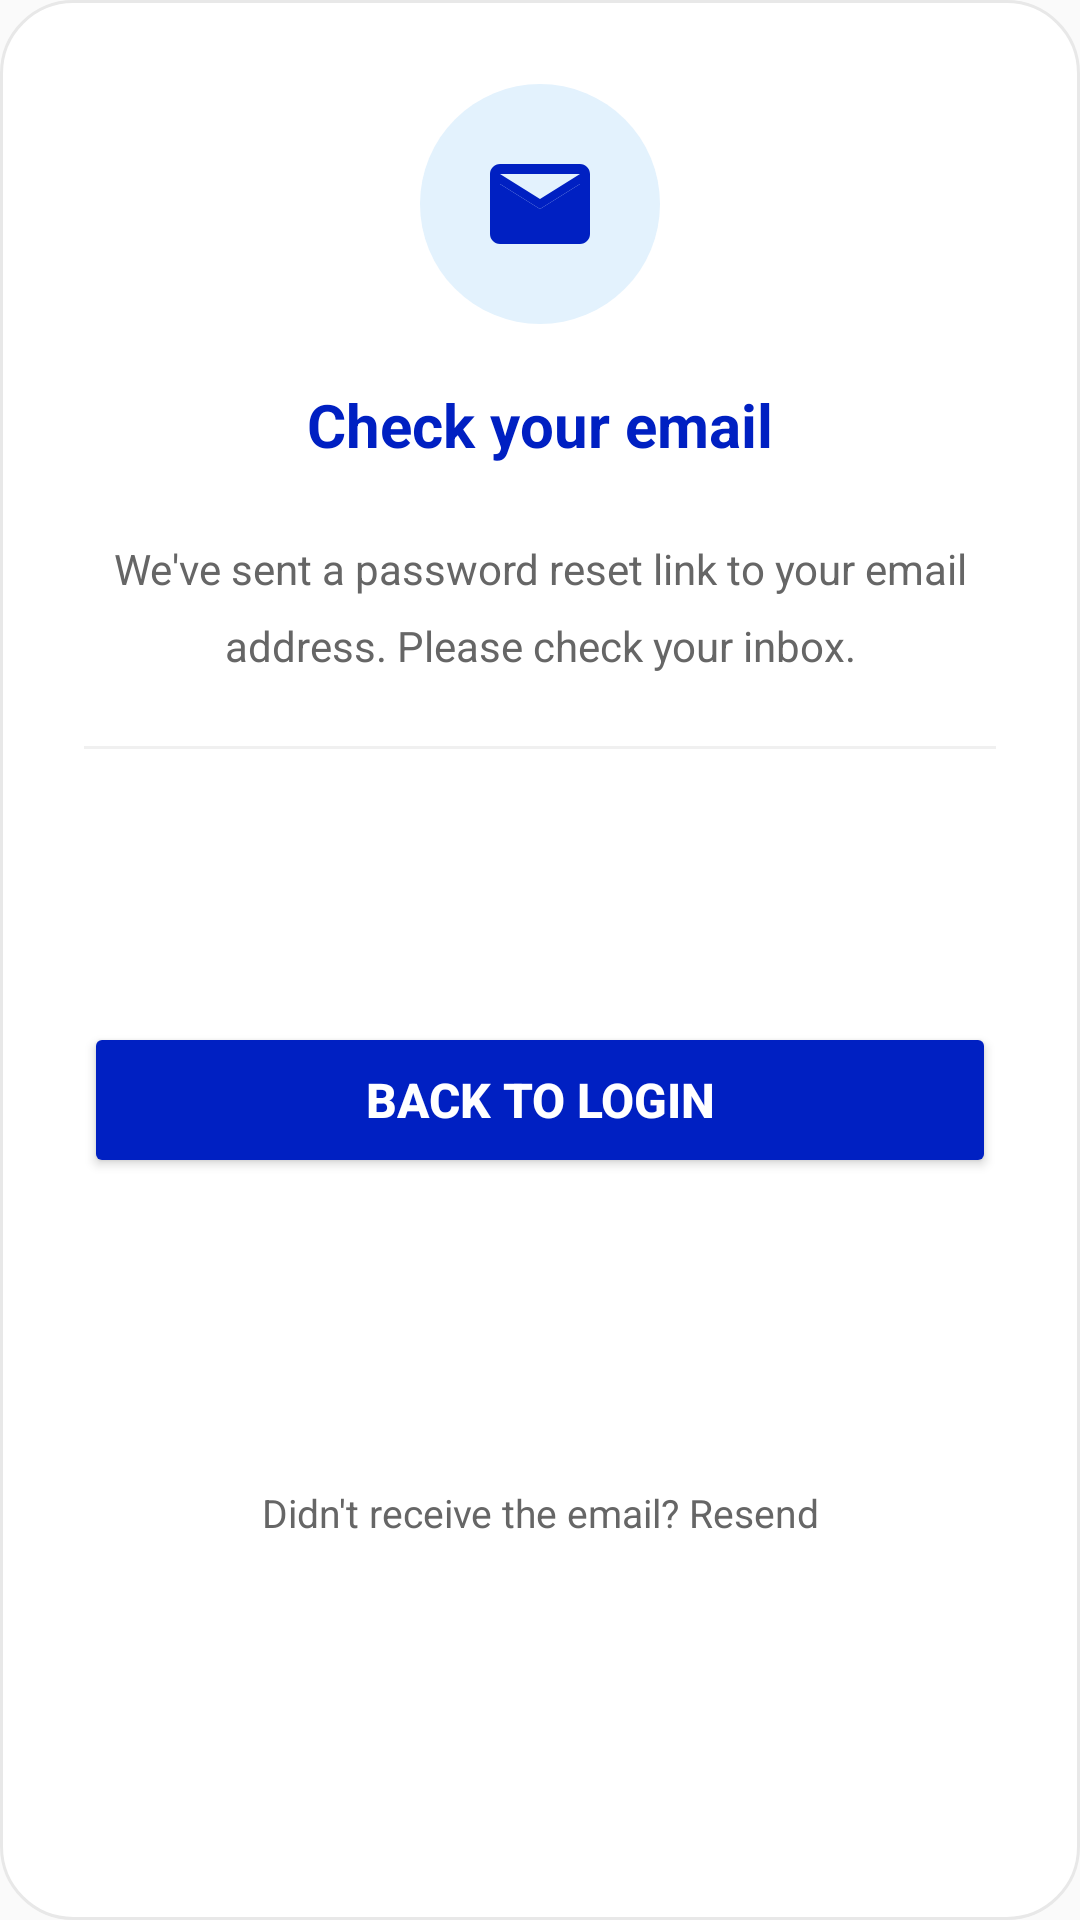

Icon bounding boxes for this 1080 × 1920 phone screenshot, format (x1, y1, x2, y2):
Email sent: (490, 164, 590, 244)
